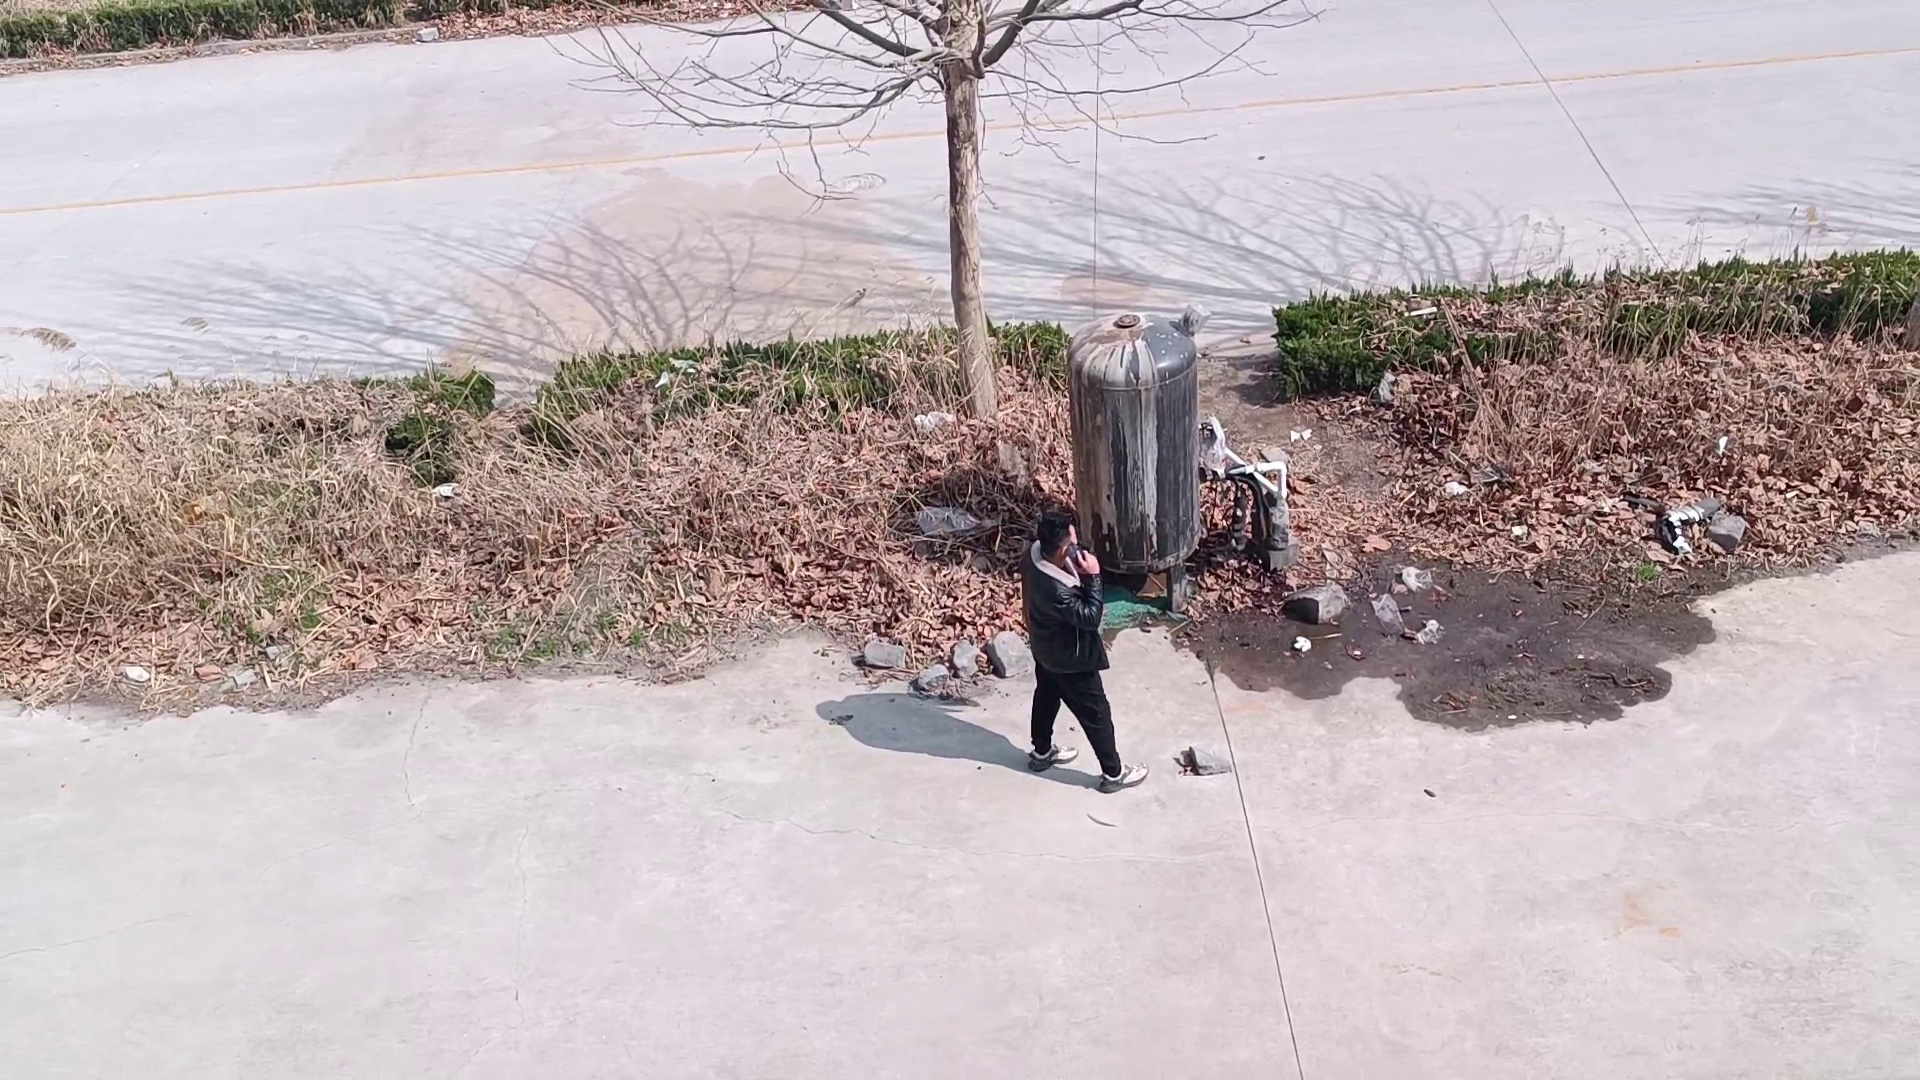phone: (1030, 512, 1097, 585)
